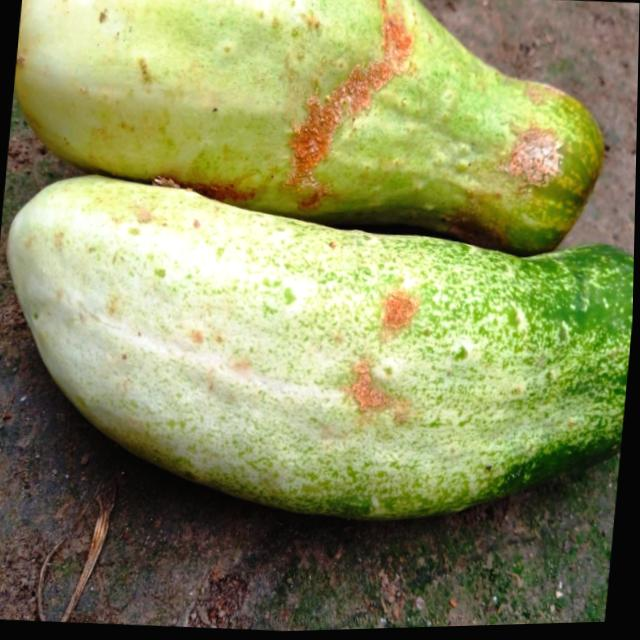Belly-Rot: (280, 0, 423, 225), (341, 279, 432, 439), (493, 118, 575, 204)
